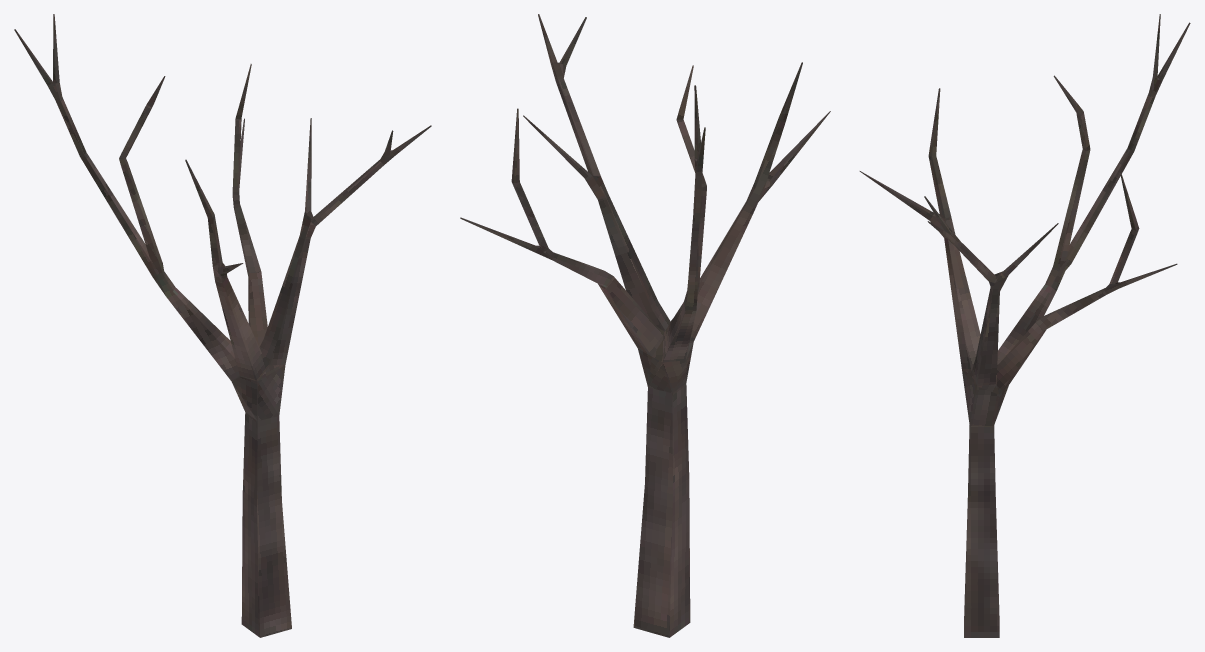
Rendered from tree.glb.
The picture shows the model from 3 angles, left to right: view 1: azimuth 30°, elevation 25°; view 2: azimuth 150°, elevation 25°; view 3: azimuth 270°, elevation 25°; orthographic projection. The views are drawn at different scales.
Parts seen in each view (by area): view 1: Tree; view 2: Tree; view 3: Tree.
Boxes of the visible parts, box(x1,y1,x2,y2) form: Tree: box(14, 14, 431, 637); Tree: box(460, 14, 830, 637); Tree: box(859, 14, 1190, 637).
Bounding box in the file's own units: 6.62 × 12.85 × 6.89.
1 material, 1 textured.
